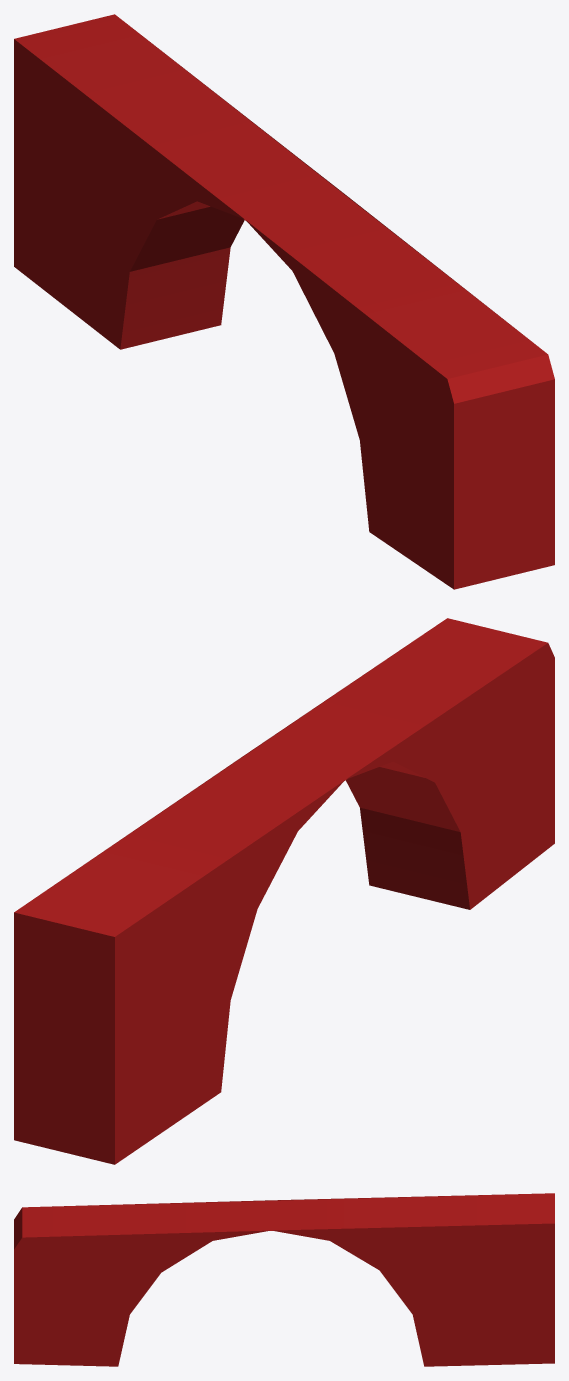
File: apex_v8_fender_right.glb
3 views of the same model, one above another, from view 1: azimuth 30°, elevation 25°; view 2: azimuth 150°, elevation 25°; view 3: azimuth 270°, elevation 25° (orthographic). The views are drawn at different scales.
Visible parts, largest first — view 1: apex_v8_fender_right; view 2: apex_v8_fender_right; view 3: apex_v8_fender_right.
Boxes of the visible parts, x1=… form: apex_v8_fender_right: x1=14, y1=14, x2=554, y2=589; apex_v8_fender_right: x1=14, y1=618, x2=554, y2=1164; apex_v8_fender_right: x1=14, y1=1193, x2=554, y2=1366.
Bounding box in the file's own units: 0.2015 × 0.445 × 1.52.
